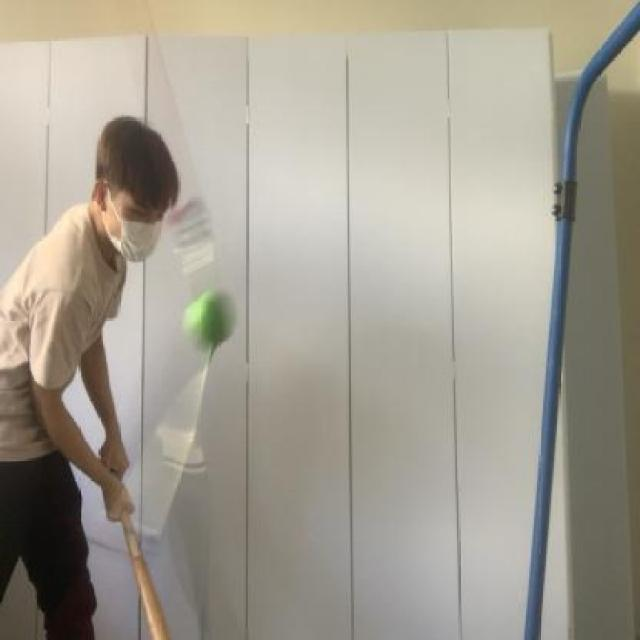baseball: (172, 280, 252, 362)
